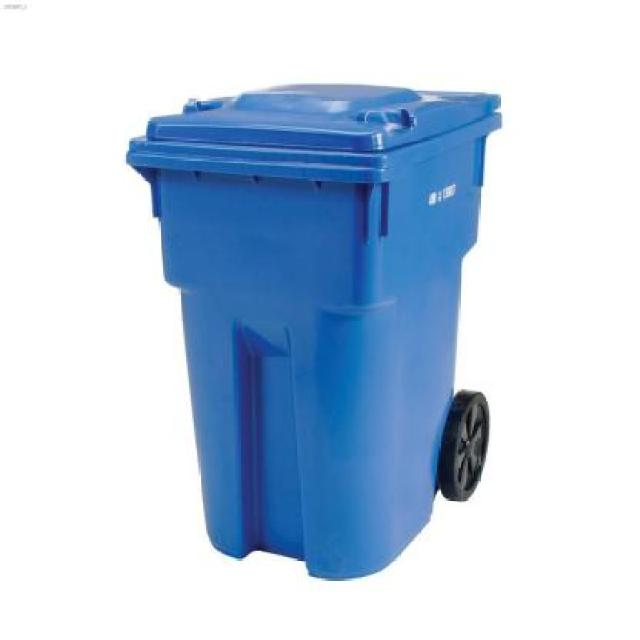garbage container: (121, 68, 510, 592)
